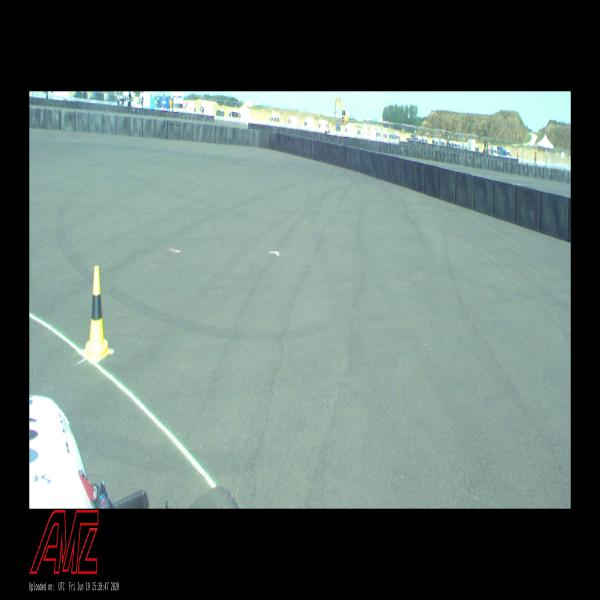yellow_cone: (84, 266, 110, 360)
